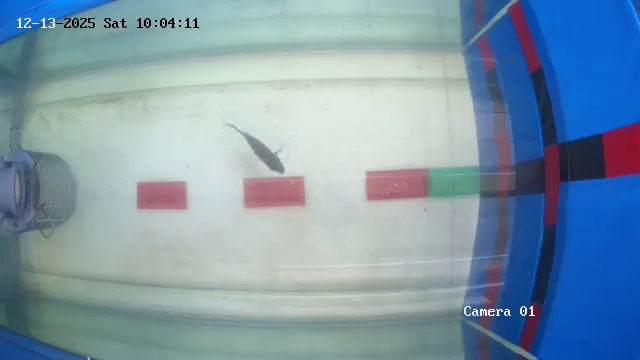fish: (232, 131, 291, 174)
